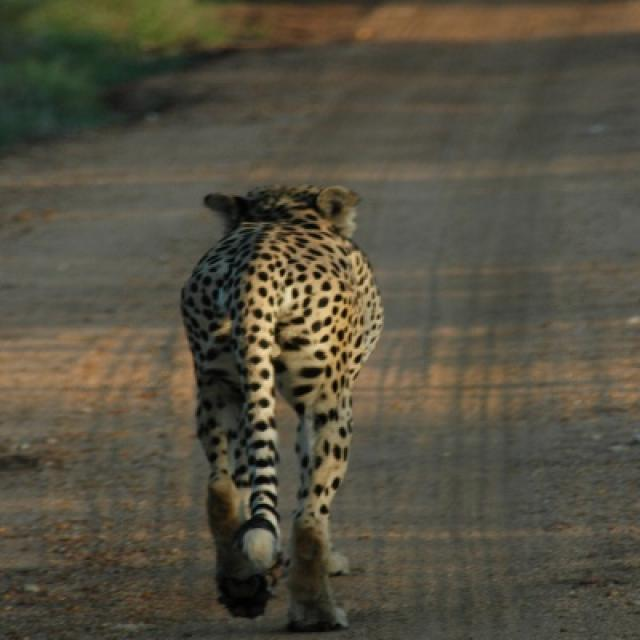Cheetah: (181, 186, 382, 630)
